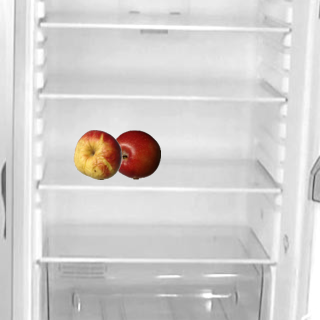Apple Braeburn: (110, 129, 160, 179)
Apple Red Yellow 1: (72, 129, 122, 179)
